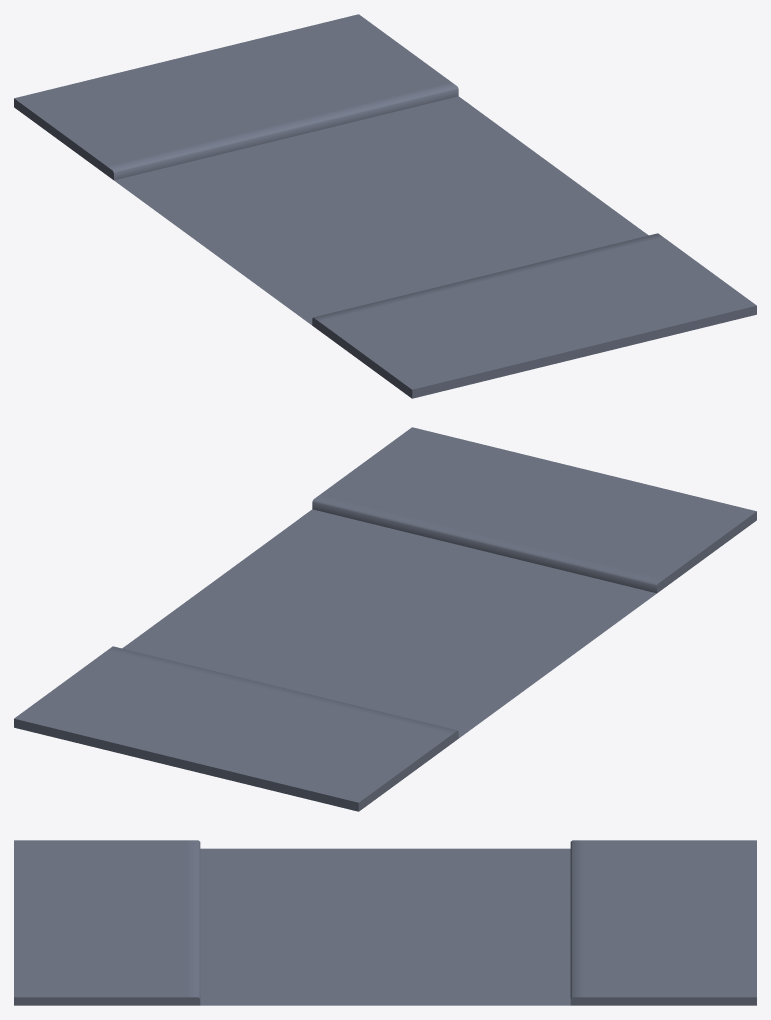
The model's file is env_block_street_2_lane.glb.
The picture shows the model from 3 angles, top to bottom: view 1: azimuth 30°, elevation 25°; view 2: azimuth 150°, elevation 25°; view 3: azimuth 270°, elevation 25°; orthographic projection. The views are drawn at different scales.
Visible parts, largest first — view 1: Street_2Lane.gltf; view 2: Street_2Lane.gltf; view 3: Street_2Lane.gltf.
Part boxes in pixels (left/top/right/bottom): Street_2Lane.gltf: left=14, top=14, right=756, bottom=398; Street_2Lane.gltf: left=14, top=427, right=756, bottom=811; Street_2Lane.gltf: left=14, top=840, right=756, bottom=1005.
Size of the model in its own units: 6 by 0.15 by 12.
